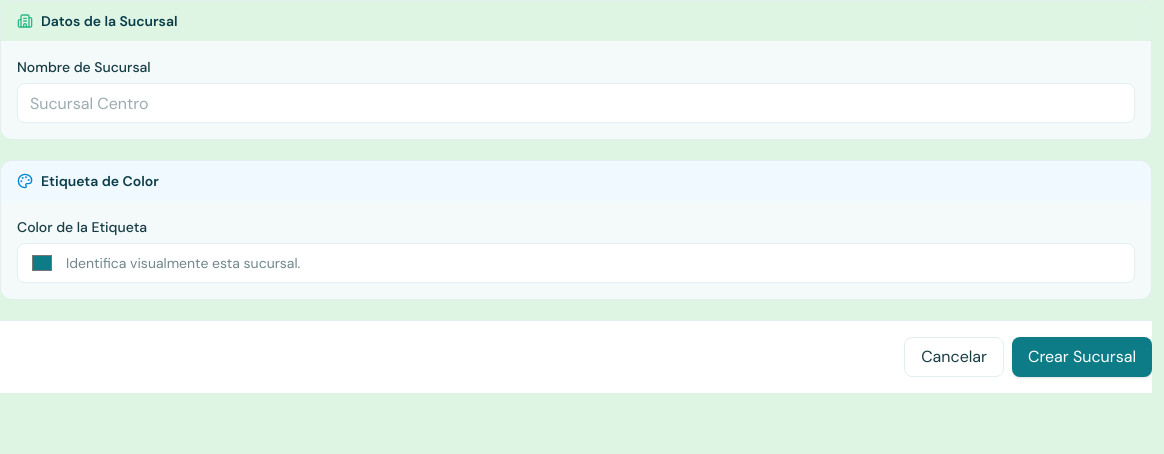
Test: BranchForm › muestra los errores por campo que devuelve la API con 400
Type "Centro" into the field labelled "Nombre de Sucursal" at [576, 103], box [17,83,1135,123]
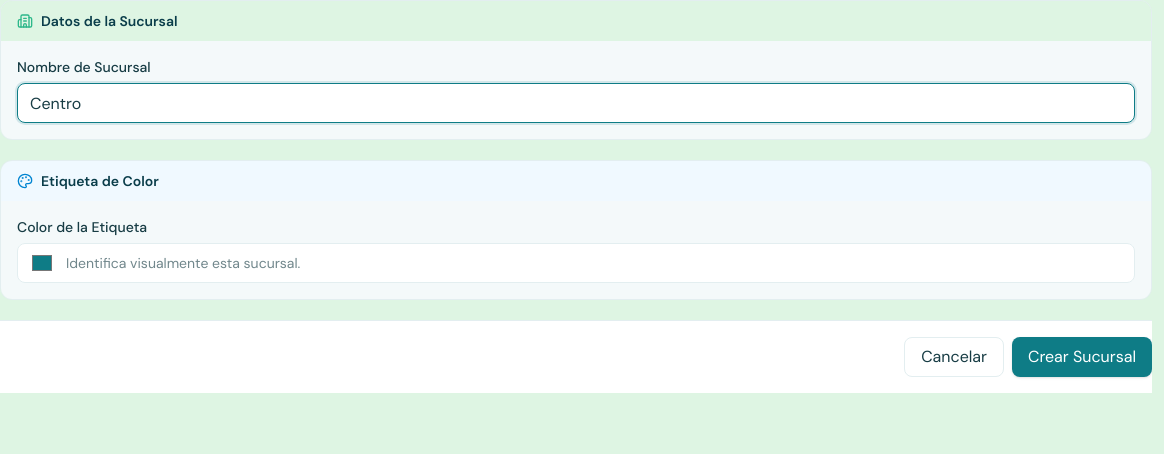
Click the button "Crear Sucursal" at [1082, 357], box [1012,337,1152,377]
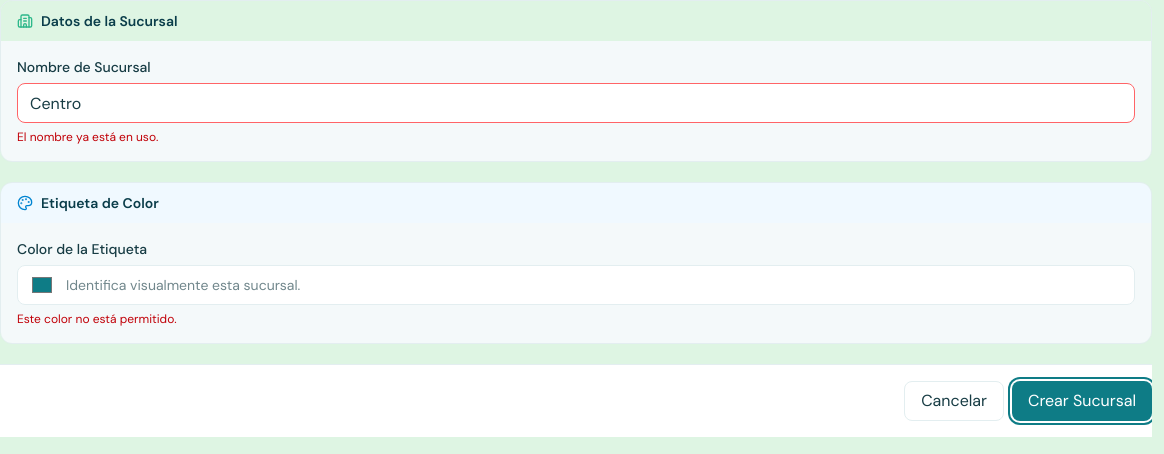
Now the text "El nombre ya está en uso." is shown, box [17,129,158,145]
Now the text "Este color no está permitido." is shown, box [17,311,177,327]
